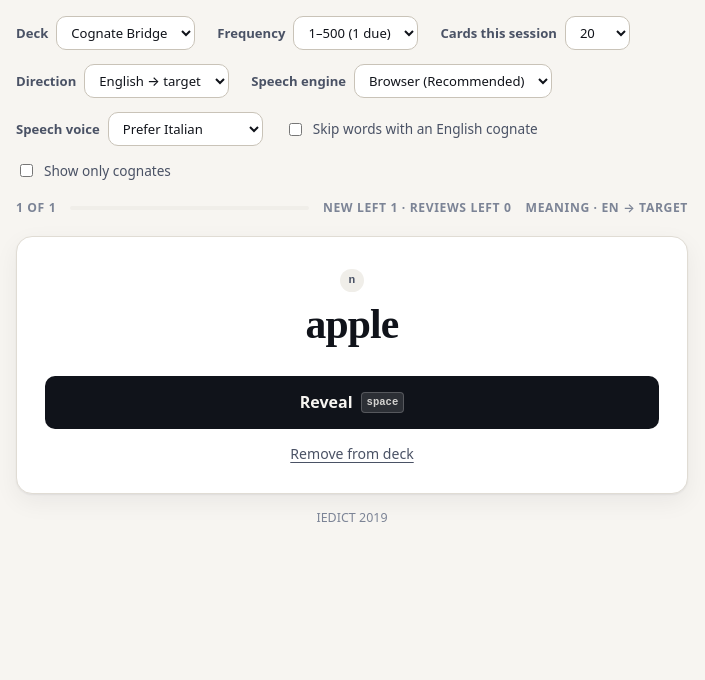
StudyPage › keeps the card on screen when saving the grade fails
This screenshot has width=705, height=680.
Step 1. Click the button "Reveal space" → (352, 403), box [45,376,659,429]
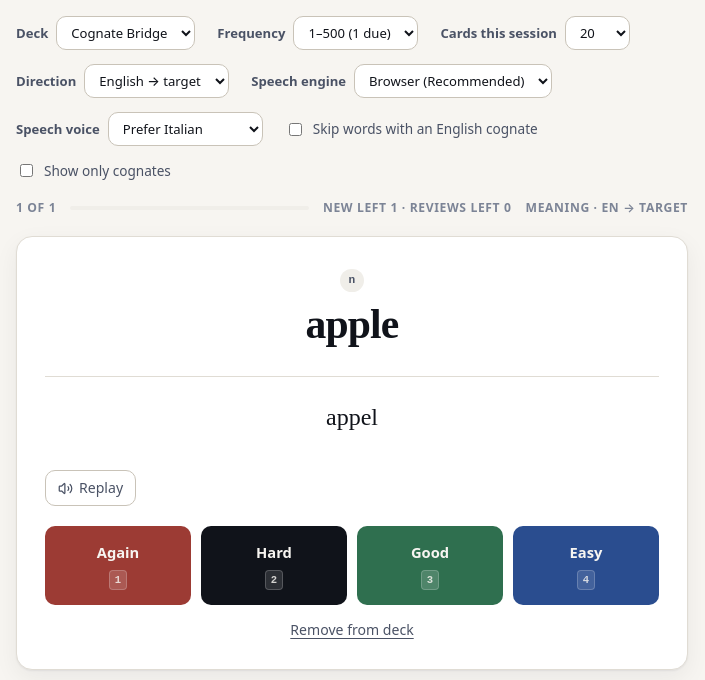
Step 2. Click the button "Good 3" → (430, 566), box [357,526,503,605]
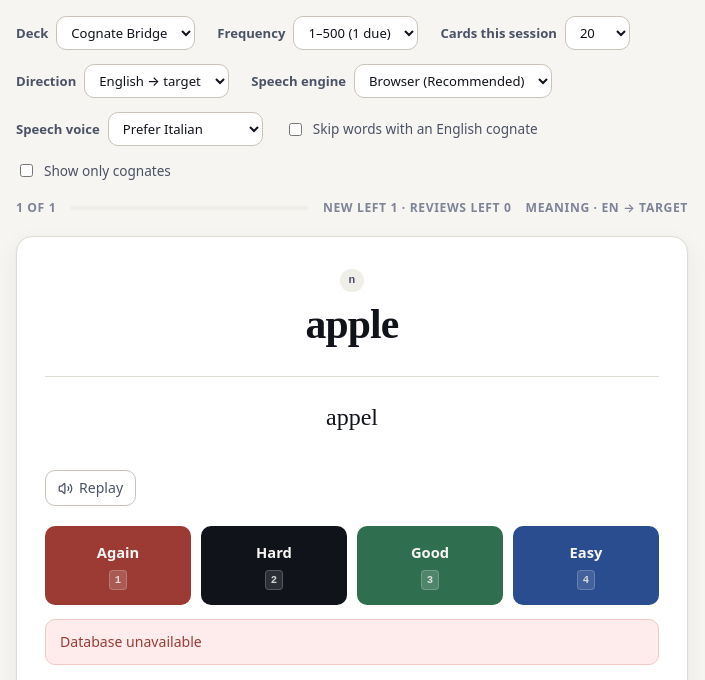
Expected: the heading "apple" is shown, [306,300,398,350]
Result: the text "Database unavailable" is shown at [45,619,659,665]
